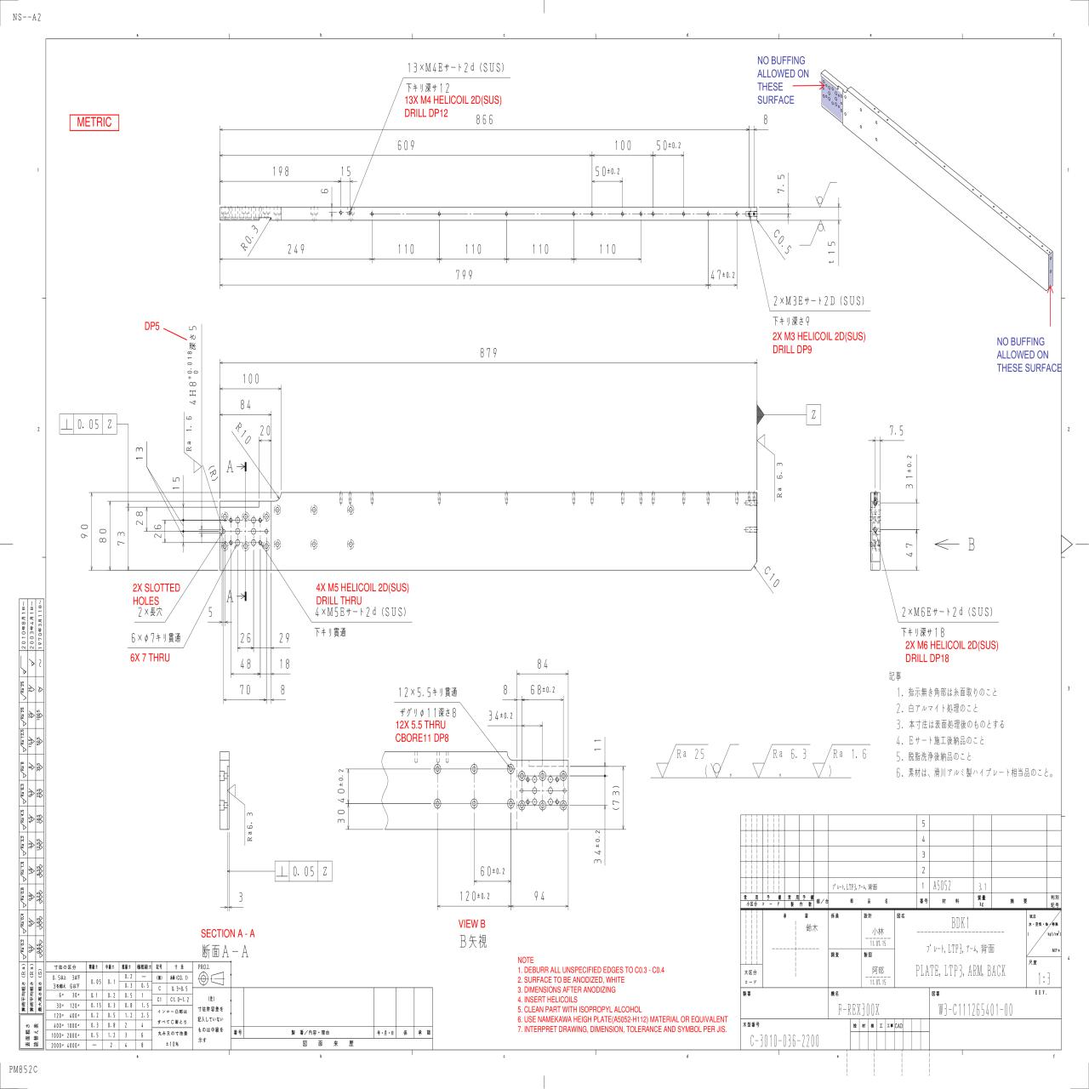basic_dimension: (77, 418, 99, 430), (293, 866, 315, 877), (480, 346, 497, 358), (615, 139, 631, 150), (243, 373, 259, 384), (476, 114, 493, 124), (777, 174, 785, 195), (273, 165, 288, 176), (466, 244, 481, 255), (288, 244, 304, 254), (398, 140, 414, 150), (456, 270, 472, 280), (600, 244, 616, 254), (890, 425, 904, 436), (905, 542, 914, 559), (399, 244, 414, 254), (533, 244, 548, 254), (154, 524, 162, 538), (612, 791, 620, 805), (260, 425, 270, 436), (241, 633, 251, 644), (280, 659, 290, 670), (241, 658, 251, 669), (240, 685, 251, 695), (534, 891, 545, 901), (538, 658, 548, 669), (99, 529, 107, 542), (280, 632, 289, 643), (136, 512, 143, 526), (172, 477, 180, 489), (81, 524, 88, 537), (118, 532, 125, 545), (341, 166, 350, 176), (136, 447, 143, 459), (241, 400, 250, 409), (594, 740, 601, 751), (208, 606, 212, 617), (281, 684, 285, 695), (321, 188, 328, 194), (763, 114, 767, 124), (239, 892, 242, 903), (504, 684, 507, 695)
datum_symbol: (757, 404, 821, 426)
dimension_chamfer_symbol: (772, 227, 792, 255), (763, 564, 781, 589)
dimension_chamfer_text: (777, 234, 792, 256), (768, 571, 781, 589)
dimension_diameter_symbol: (420, 707, 437, 718), (144, 633, 155, 644)
dimension_diameter_text: (427, 707, 437, 719), (150, 632, 155, 643)
dimension_metric_symbol: (917, 640, 929, 651), (327, 606, 338, 617), (425, 61, 432, 74)
dimension_metric_text: (923, 638, 928, 652), (334, 606, 339, 617)
dimension_radius_symbol: (240, 223, 259, 253), (234, 420, 252, 445), (209, 467, 218, 479)
dimension_radius_text: (243, 222, 259, 245), (239, 427, 253, 446)
dimension_thickness_symbol: (828, 240, 835, 264)
dimension_thickness_text: (828, 240, 837, 255)
explicit_tolerance_text: (187, 351, 200, 405), (337, 768, 345, 823), (460, 891, 490, 902), (656, 139, 681, 151), (905, 456, 914, 489), (711, 269, 735, 281), (595, 166, 620, 177), (480, 865, 505, 876), (530, 684, 555, 695), (594, 830, 602, 864), (489, 710, 513, 721)
gdt_frame_symbol: (273, 859, 332, 885), (58, 413, 121, 435)
gdt_perpendicularity_symbol: (276, 866, 288, 877), (61, 419, 72, 430)
surface_finish_symbol: (756, 434, 782, 502), (227, 784, 253, 846), (184, 412, 202, 474), (797, 217, 827, 247), (814, 180, 838, 209)
surface_finish_text: (246, 812, 253, 829), (776, 462, 783, 479), (186, 416, 192, 431)
